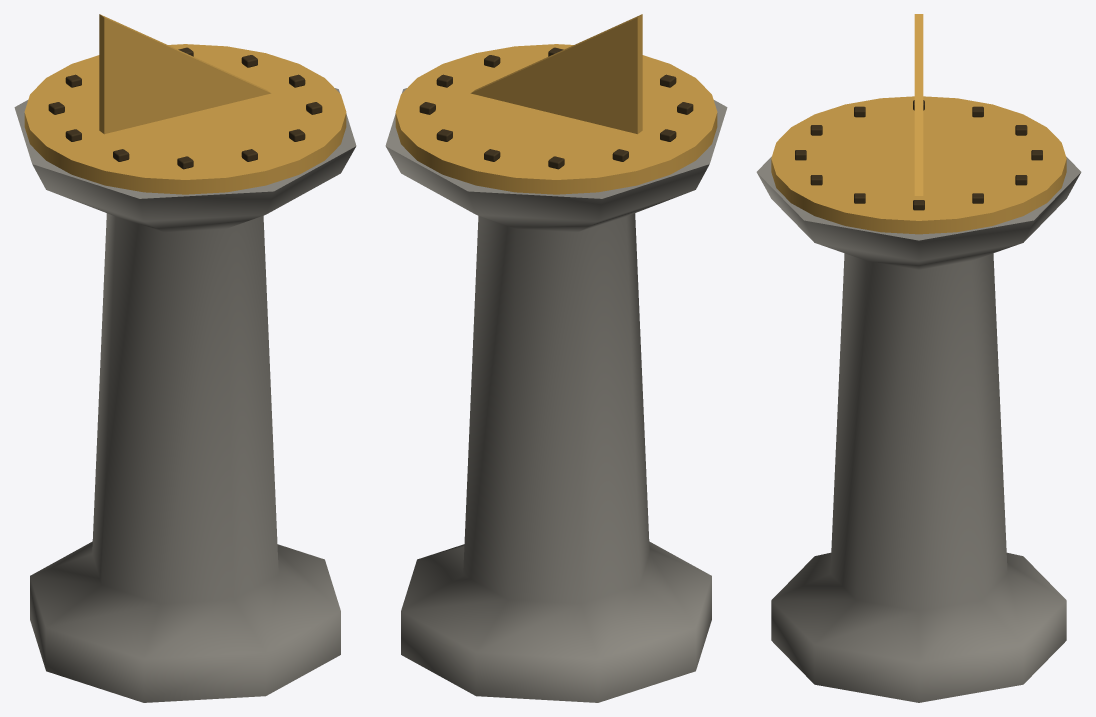
File: furn_od_sundial.glb
3 renders of one model, left to right at view 1: azimuth 30°, elevation 25°; view 2: azimuth 150°, elevation 25°; view 3: azimuth 270°, elevation 25°, orthographic. The views are drawn at different scales.
Parts seen in each view (by area): view 1: furn_od_sundial_main, furn_od_sundial_gloss; view 2: furn_od_sundial_main, furn_od_sundial_gloss; view 3: furn_od_sundial_main, furn_od_sundial_gloss.
Boxes of the visible parts, x1,y1,x2,y2 form: furn_od_sundial_main: (14,47,356,702); furn_od_sundial_gloss: (24,14,346,194); furn_od_sundial_main: (385,47,727,702); furn_od_sundial_gloss: (395,14,717,194); furn_od_sundial_main: (756,100,1081,702); furn_od_sundial_gloss: (771,14,1066,234).
Size of the model in its own units: 0.44 by 0.88 by 0.44.
